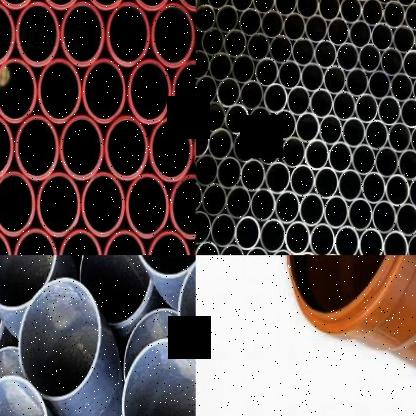pipe: (18, 278, 101, 402), (286, 255, 416, 333), (122, 338, 196, 416), (78, 255, 153, 328), (0, 255, 58, 311), (37, 58, 82, 124), (104, 115, 148, 181), (125, 173, 169, 239), (36, 172, 80, 238), (60, 115, 104, 180), (60, 2, 104, 67), (16, 2, 60, 67), (81, 172, 125, 237), (107, 2, 150, 68), (148, 119, 193, 182), (127, 61, 172, 124), (82, 59, 126, 123), (151, 3, 194, 68), (16, 115, 58, 181), (0, 58, 37, 123), (0, 171, 35, 237), (0, 375, 50, 416), (0, 346, 27, 416), (169, 175, 196, 239), (171, 62, 196, 126), (13, 229, 58, 255), (58, 230, 102, 255), (146, 231, 190, 255), (104, 231, 146, 255), (260, 218, 286, 254), (0, 1, 14, 66), (235, 216, 261, 251), (202, 182, 227, 218), (299, 193, 325, 227), (275, 191, 301, 225), (240, 158, 266, 192), (217, 156, 242, 191), (251, 188, 276, 223), (285, 220, 310, 255), (211, 214, 236, 249), (0, 114, 13, 180), (324, 196, 349, 230), (348, 198, 373, 232), (372, 200, 397, 234), (226, 186, 251, 220), (290, 164, 315, 198), (309, 224, 335, 256), (314, 167, 339, 200), (328, 141, 353, 174), (265, 162, 290, 195), (338, 169, 363, 202), (257, 134, 282, 166), (385, 174, 410, 206), (233, 131, 258, 163), (351, 144, 376, 176), (281, 136, 306, 168), (375, 146, 400, 178), (209, 128, 233, 161), (319, 114, 343, 146), (362, 172, 386, 204), (305, 139, 329, 171), (202, 102, 226, 134), (196, 154, 218, 188), (365, 120, 389, 151), (342, 117, 366, 148), (355, 93, 379, 124), (217, 77, 241, 108), (273, 110, 297, 141), (249, 107, 273, 138), (296, 112, 320, 143), (287, 86, 311, 117), (240, 80, 264, 111), (335, 226, 360, 255), (263, 84, 288, 113), (358, 44, 382, 74), (225, 105, 249, 135), (314, 40, 338, 70), (209, 52, 233, 82), (232, 54, 256, 84), (395, 203, 416, 237), (323, 66, 347, 95), (336, 43, 360, 72), (278, 61, 302, 90), (292, 38, 316, 67), (255, 58, 279, 87), (388, 123, 411, 153), (333, 91, 356, 121), (301, 63, 324, 93), (378, 96, 401, 126), (368, 70, 391, 100), (305, 14, 328, 44), (247, 32, 270, 62), (310, 89, 333, 119), (201, 28, 225, 56), (390, 73, 413, 102), (327, 18, 350, 47), (346, 68, 369, 97), (224, 29, 247, 58), (270, 35, 293, 64), (216, 5, 239, 34), (261, 10, 284, 39), (359, 228, 383, 255), (383, 1, 406, 29), (283, 13, 306, 41), (239, 8, 262, 36), (381, 48, 403, 77), (393, 25, 415, 54), (196, 75, 217, 105), (383, 231, 409, 255), (349, 21, 372, 48), (371, 23, 393, 51), (362, 0, 384, 27), (398, 149, 416, 181), (340, 0, 363, 24), (196, 4, 215, 32), (196, 210, 211, 245), (399, 98, 416, 127), (129, 0, 173, 11), (319, 0, 341, 22), (83, 0, 128, 10), (39, 0, 83, 10), (401, 49, 416, 78), (196, 49, 210, 80), (196, 126, 209, 158), (296, 0, 318, 18), (274, 0, 297, 16), (404, 2, 416, 30), (0, 0, 37, 9), (196, 242, 220, 255), (0, 228, 11, 255), (218, 244, 245, 255), (253, 0, 274, 14), (230, 0, 253, 11), (196, 180, 203, 214), (409, 177, 416, 209), (207, 0, 229, 10), (244, 247, 269, 255), (410, 124, 416, 156), (407, 234, 416, 255), (196, 100, 202, 130), (395, 0, 416, 7), (412, 75, 416, 104), (374, 0, 394, 4), (352, 0, 374, 2)
